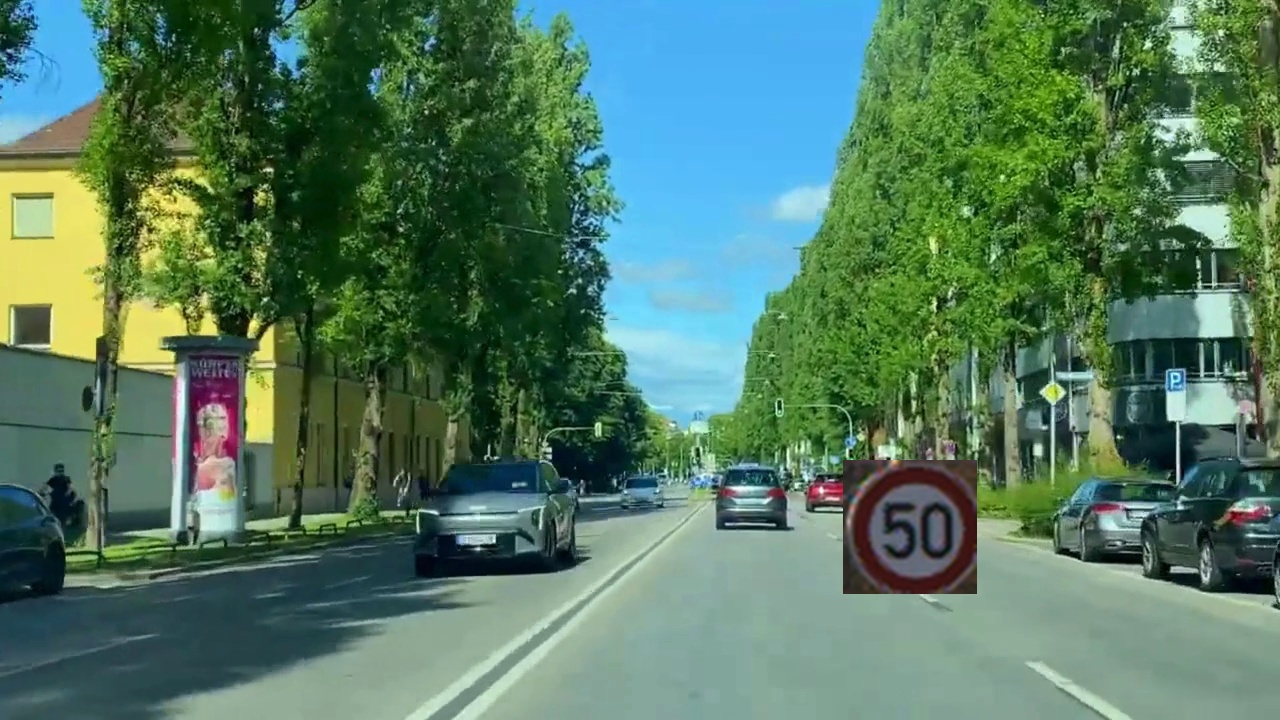Speed 50: (843, 460, 977, 594)
